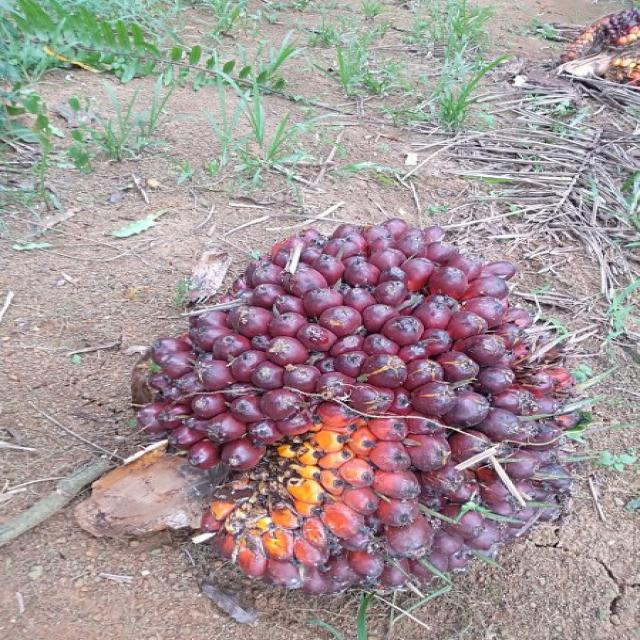fraksi 1: (68, 150, 599, 624)
